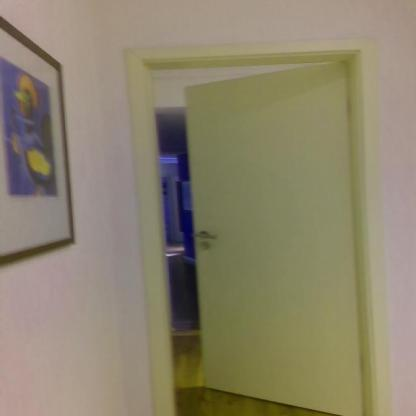door: (117, 30, 391, 416)
